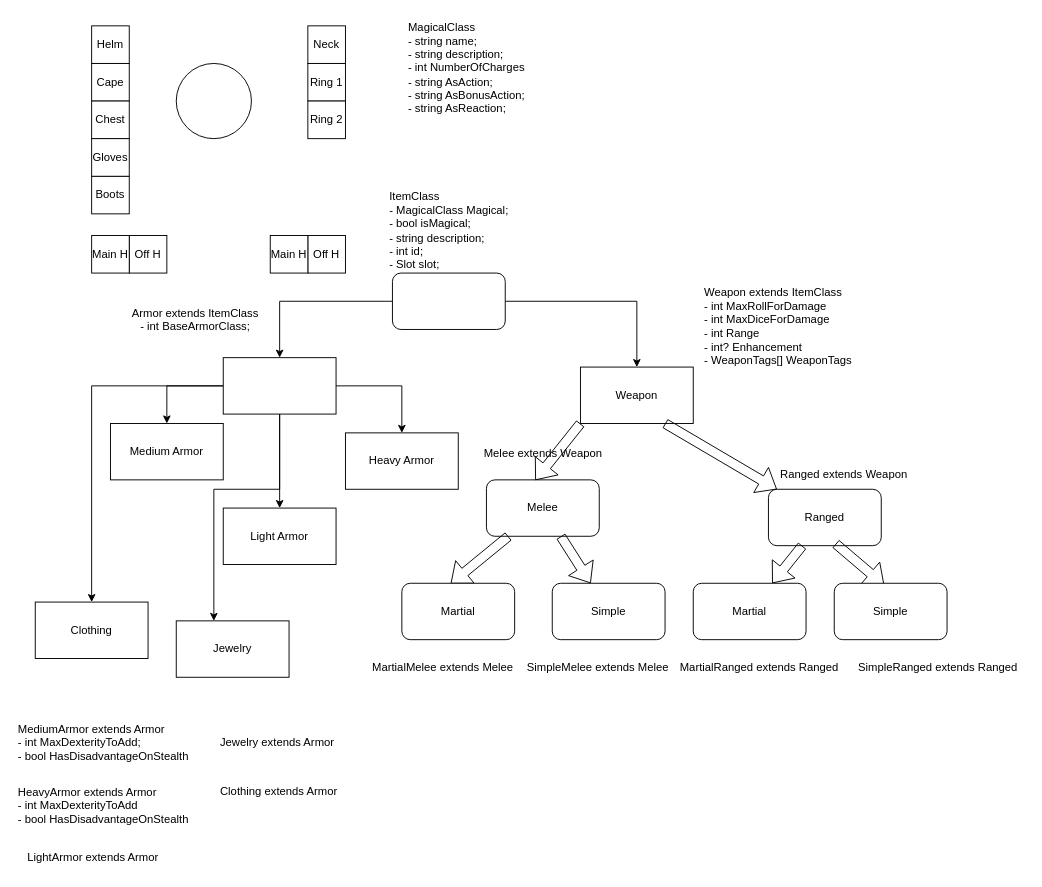
Image size: 1042x887. Some labels were removed from this diagram. Here are the shapes that lost their labels. From the top down, the centre of each, then its label:
point (213, 101): Char Icon
point (448, 300): Item
point (279, 385): Armor
